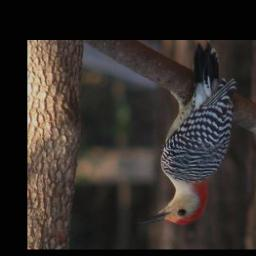Woodpecker: (137, 47, 238, 227)
